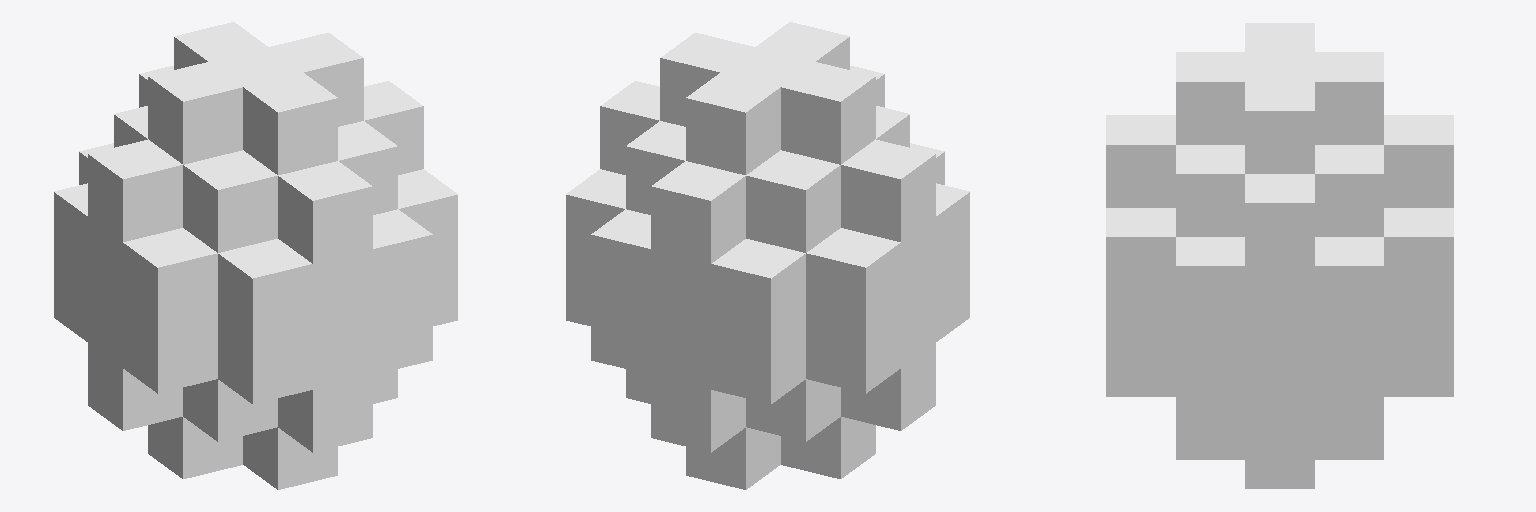
File: Ice.obj
3 views of the same model, side by side, from view 1: azimuth 30°, elevation 25°; view 2: azimuth 150°, elevation 25°; view 3: azimuth 270°, elevation 25° (orthographic).
Visible parts, largest first — view 1: object 1; view 2: object 1; view 3: object 1.
Part boxes in pixels (x1,y1,x2,y2): object 1: (54,22,457,489); object 1: (566,22,969,489); object 1: (1106,23,1453,488).
Size of the model in its own units: 0.5 by 0.6 by 0.5.